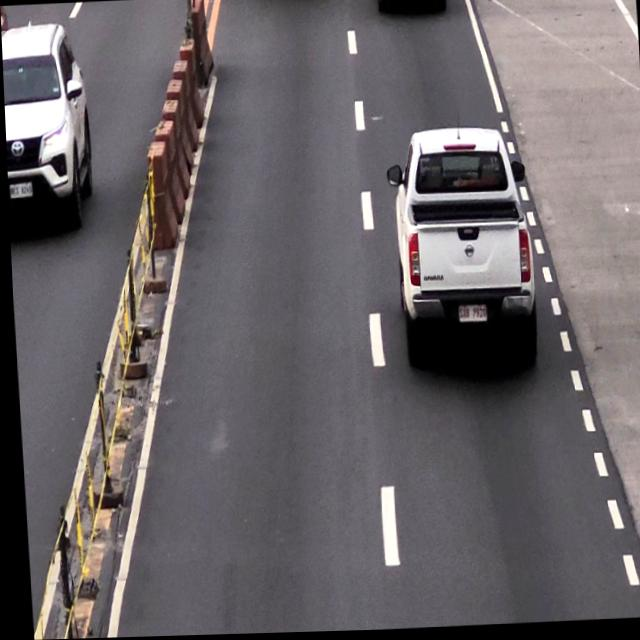Car: (386, 127, 535, 374)
